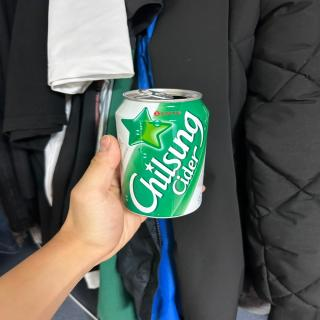chilsung: (113, 87, 212, 221)
